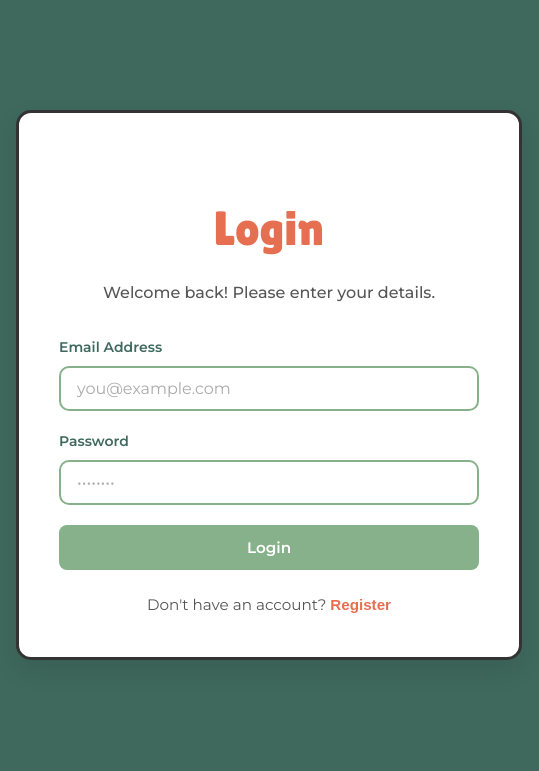
Scenario: renders register form
Click the button "Register". click: (361, 604)
box: x1=330 y1=596 x2=391 y2=613
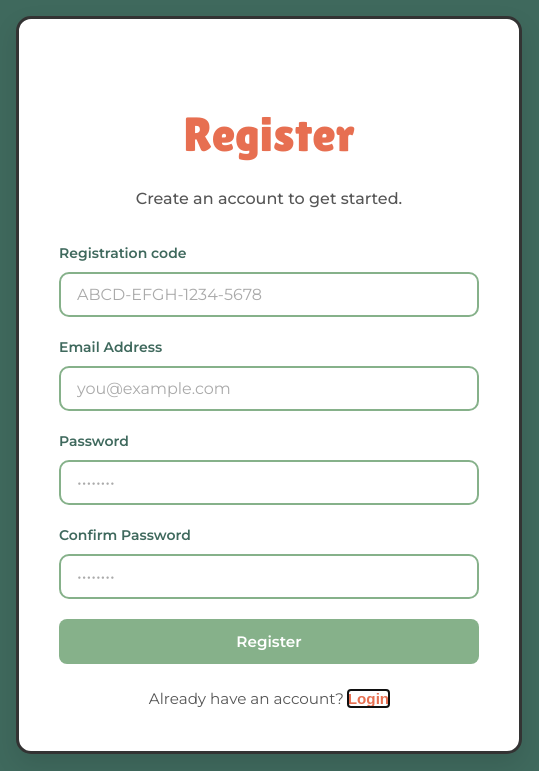
Check: the text "Confirm Password" is shown, box x1=59 y1=526 x2=191 y2=544
